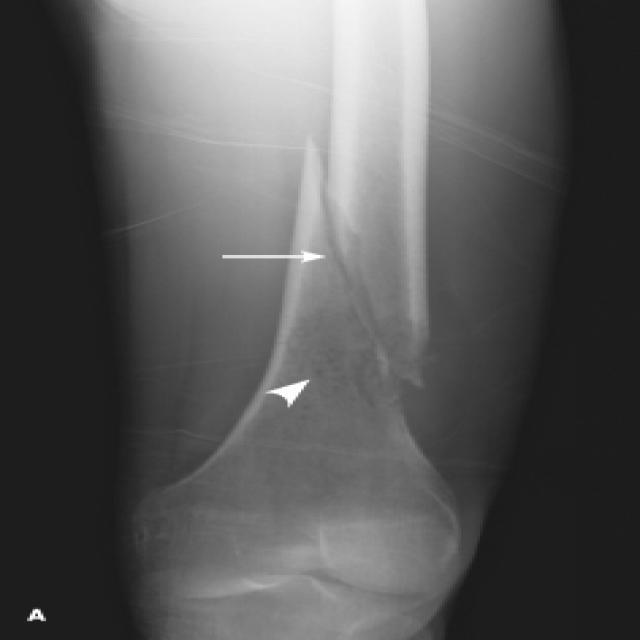pathological: (262, 107, 468, 449)
